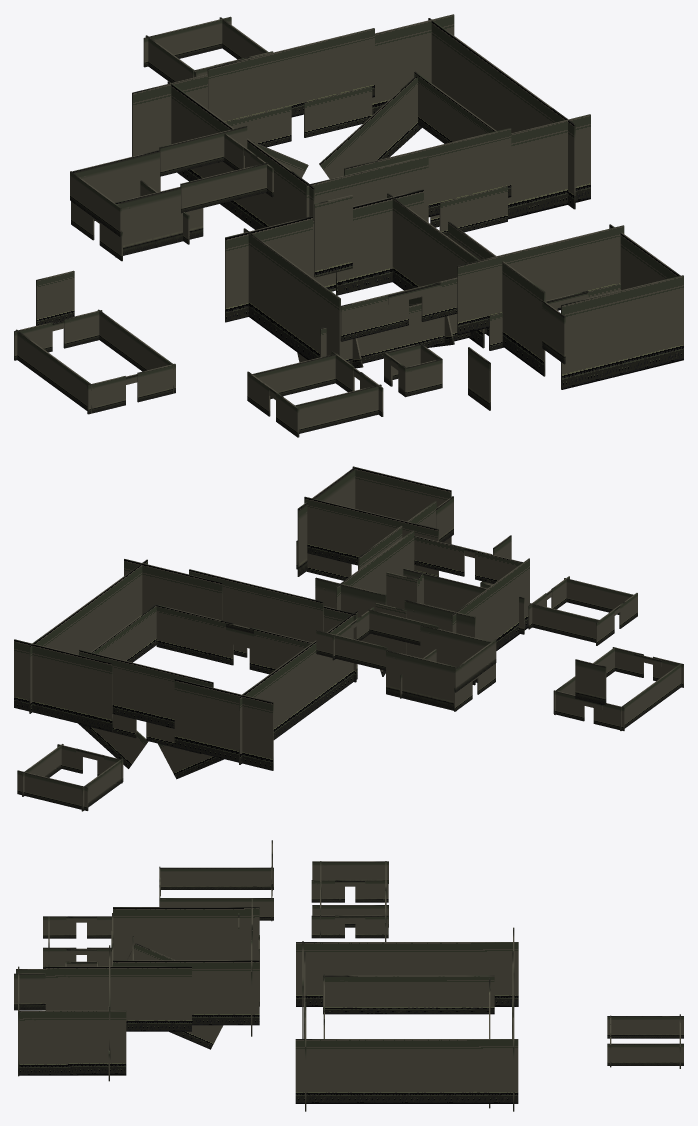
The model's file is enviornmentFinalWalls1.obj.
The picture shows the model from 3 angles, top to bottom: view 1: azimuth 30°, elevation 25°; view 2: azimuth 150°, elevation 25°; view 3: azimuth 270°, elevation 25°; orthographic projection. The views are drawn at different scales.
Visible parts, largest first — view 1: Cube.089, Cube.111, Cube.093, Cube.101, Cube.069, Cube.105, Cube.104, Cube.100, Cube.070, Cube.087, Cube.068, Cube.135 (+35 smaller); view 2: Cube.107, Cube.108, Cube.104, Cube.093, Cube.101, Cube.100, Cube.111, Cube.069, Cube.105, Cube.089, Cube.146, Cube.042 (+34 smaller); view 3: Cube.101, Cube.104, Cube.087, Cube.069, Cube.088, Cube.144, Cube.070, Cube.029, Cube.120, Cube.119, Cube.057, Cube.028 (+11 smaller).
Part boxes in pixels (left/top/right/bottom): Cube.089: left=561, top=275, right=683, bottom=389; Cube.111: left=207, top=28, right=374, bottom=121; Cube.093: left=457, top=225, right=624, bottom=334; Cube.101: left=428, top=18, right=575, bottom=209; Cube.069: left=243, top=228, right=340, bottom=360; Cube.105: left=508, top=114, right=590, bottom=219; Cube.104: left=167, top=81, right=314, bottom=229; Cube.100: left=344, top=128, right=511, bottom=217; Cube.070: left=387, top=193, right=484, bottom=348; Cube.087: left=448, top=221, right=545, bottom=376; Cube.068: left=336, top=189, right=423, bottom=295; Cube.135: left=319, top=76, right=421, bottom=179; Cube.107: left=174, top=678, right=273, bottom=770; Cube.108: left=14, top=639, right=112, bottom=731; Cube.104: left=239, top=610, right=357, bottom=764; Cube.093: left=304, top=496, right=438, bottom=576; Cube.101: left=29, top=559, right=147, bottom=713; Cube.100: left=189, top=569, right=323, bottom=642; Cube.111: left=79, top=649, right=213, bottom=728; Cube.069: left=451, top=558, right=529, bottom=650; Cube.105: left=124, top=559, right=222, bottom=620; Cube.089: left=352, top=466, right=451, bottom=544; Cube.146: left=156, top=604, right=233, bottom=665; Cube.042: left=386, top=650, right=456, bottom=710; Cube.101: left=295, top=1039, right=518, bottom=1103; Cube.104: left=296, top=942, right=518, bottom=1006; Cube.087: left=45, top=966, right=191, bottom=1031; Cube.069: left=113, top=907, right=259, bottom=960; Cube.088: left=19, top=1010, right=126, bottom=1075; Cube.144: left=323, top=975, right=494, bottom=1014; Cube.070: left=113, top=960, right=259, bottom=1025; Cube.029: left=160, top=867, right=273, bottom=889; Cube.120: left=607, top=1016, right=683, bottom=1038; Cube.119: left=607, top=1043, right=683, bottom=1065; Cube.057: left=312, top=861, right=388, bottom=883; Cube.028: left=159, top=898, right=273, bottom=920.
Size of the model in its own units: 172 by 44.49 by 218.
